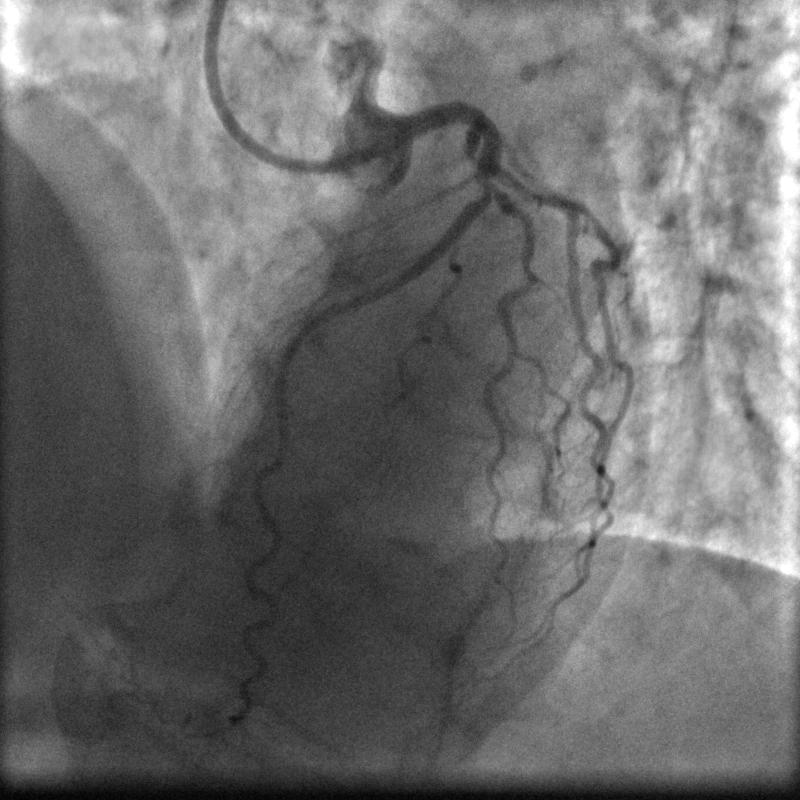Stenosis: (475, 180, 503, 206)
